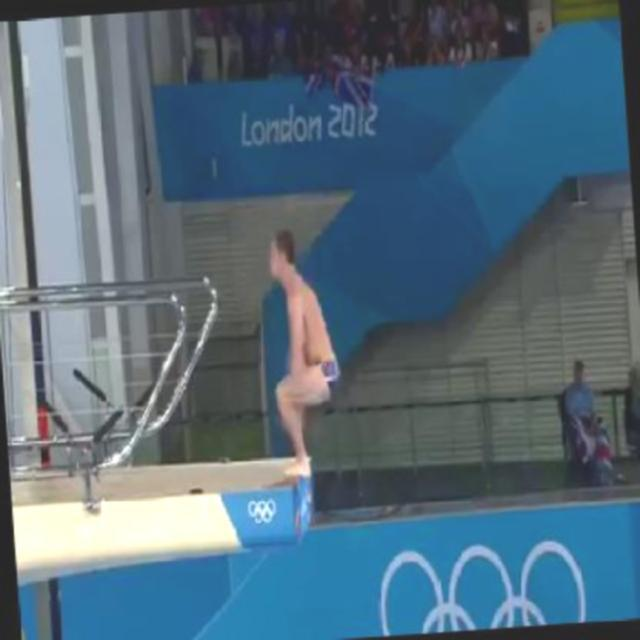non-fight: (261, 224, 350, 478)
